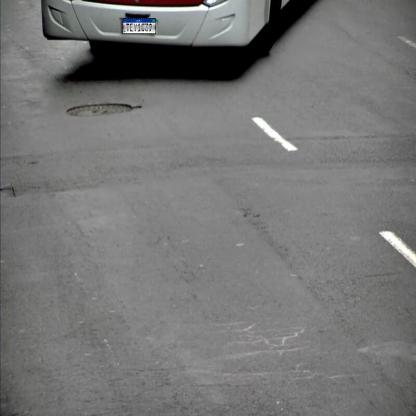PlacaM: (123, 18, 156, 34)
